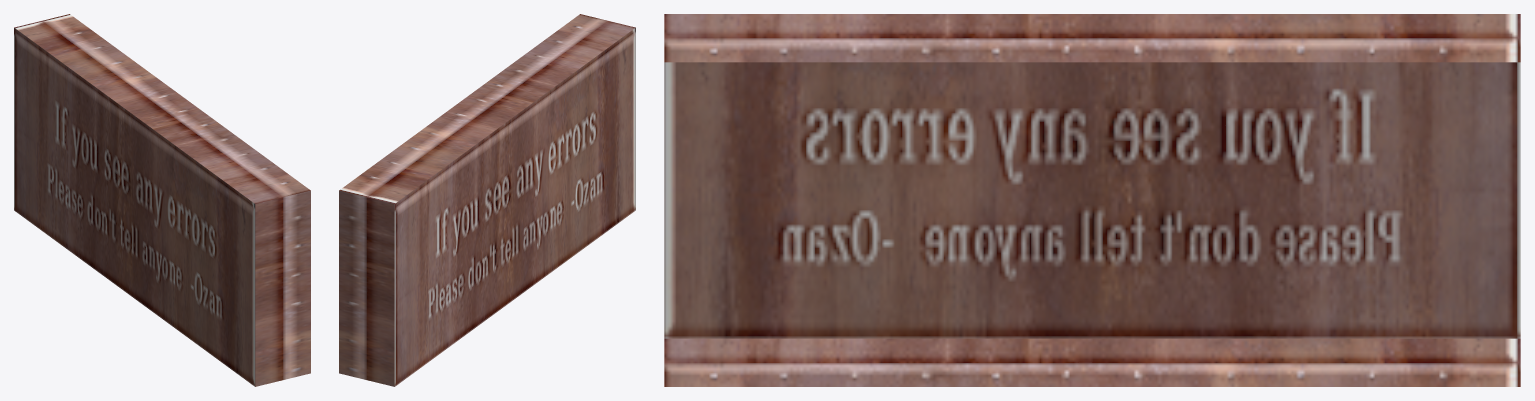
Rendered from ozan_ifyouseeanyerrors.fbx.
3 views of the same model, side by side, from view 1: azimuth 30°, elevation 25°; view 2: azimuth 150°, elevation 25°; view 3: azimuth 270°, elevation 25° (orthographic). The views are drawn at different scales.
Visible parts, largest first — view 1: Bazaar Complex Easteregg; view 2: Bazaar Complex Easteregg; view 3: Bazaar Complex Easteregg.
Boxes of the visible parts, left/top/right/bottom form: Bazaar Complex Easteregg: left=14, top=14, right=310, bottom=386; Bazaar Complex Easteregg: left=339, top=14, right=635, bottom=386; Bazaar Complex Easteregg: left=664, top=14, right=1520, bottom=386.
Bounding box in the file's own units: 0.3361 × 1.06 × 2.52.
